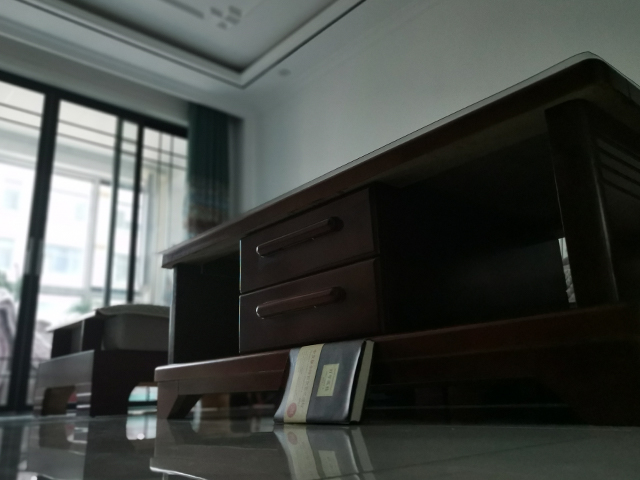book: (270, 338, 376, 427)
sofa: (29, 302, 169, 417)
table: (151, 49, 640, 429)
